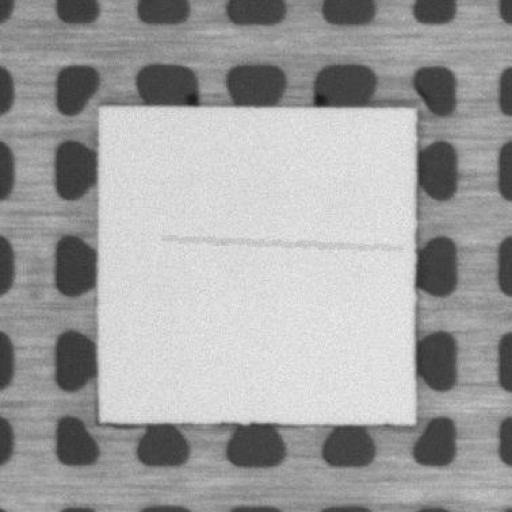DIE_CRACK: (161, 238, 400, 248)
